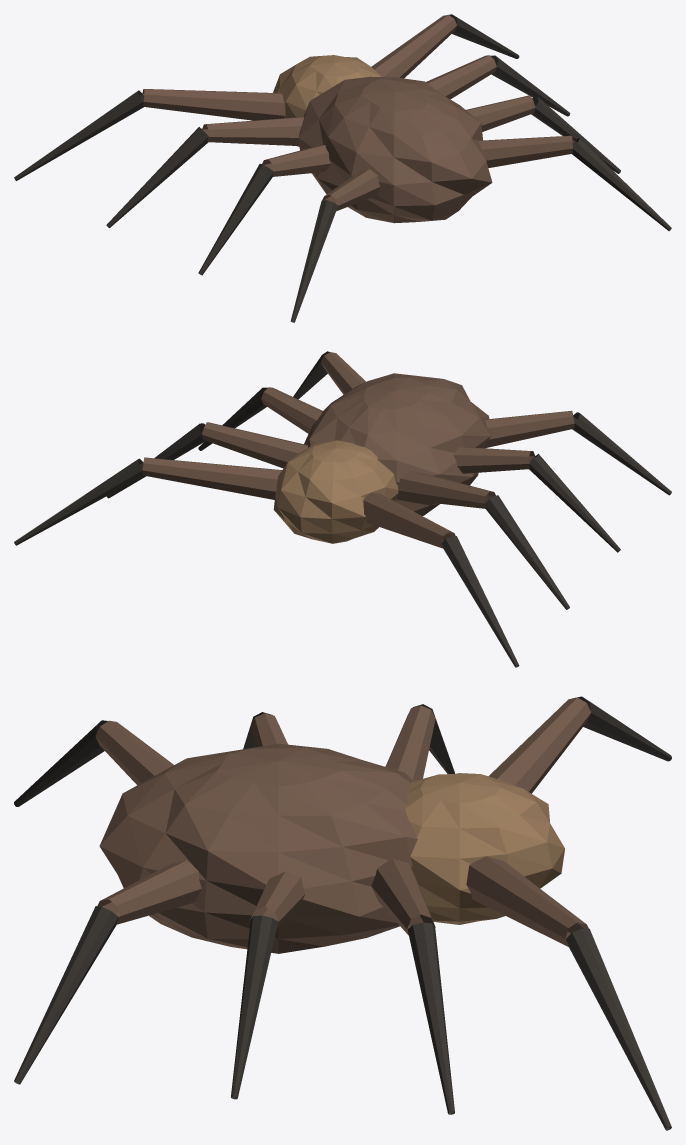
The model's file is spider.gltf.
3 renders of one model, top to bottom at view 1: azimuth 30°, elevation 25°; view 2: azimuth 150°, elevation 25°; view 3: azimuth 270°, elevation 25°, orthographic. The views are drawn at different scales.
Parts seen in each view (by area): view 1: spider; view 2: spider; view 3: spider.
Part boxes in pixels (<box>): spider: <box>14,14,671,322</box>; spider: <box>14,351,671,667</box>; spider: <box>14,696,671,1130</box>.
Size of the model in its own units: 2.19 by 0.5074 by 1.64.
